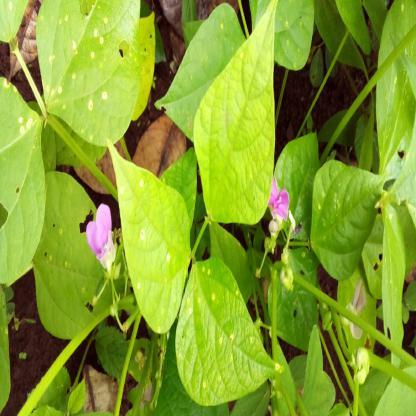Beans_Rust: (172, 258, 285, 406), (105, 145, 188, 331), (156, 4, 261, 145), (35, 0, 136, 142), (0, 73, 49, 281), (312, 160, 389, 278), (257, 0, 317, 72), (0, 0, 29, 43)
